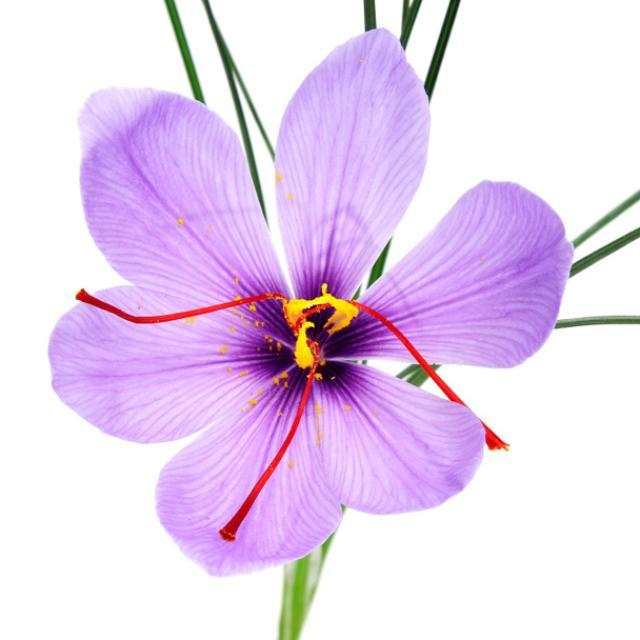Flower: (114, 112, 520, 533)
stigma: (362, 301, 512, 448), (219, 363, 317, 543), (73, 280, 284, 326)
